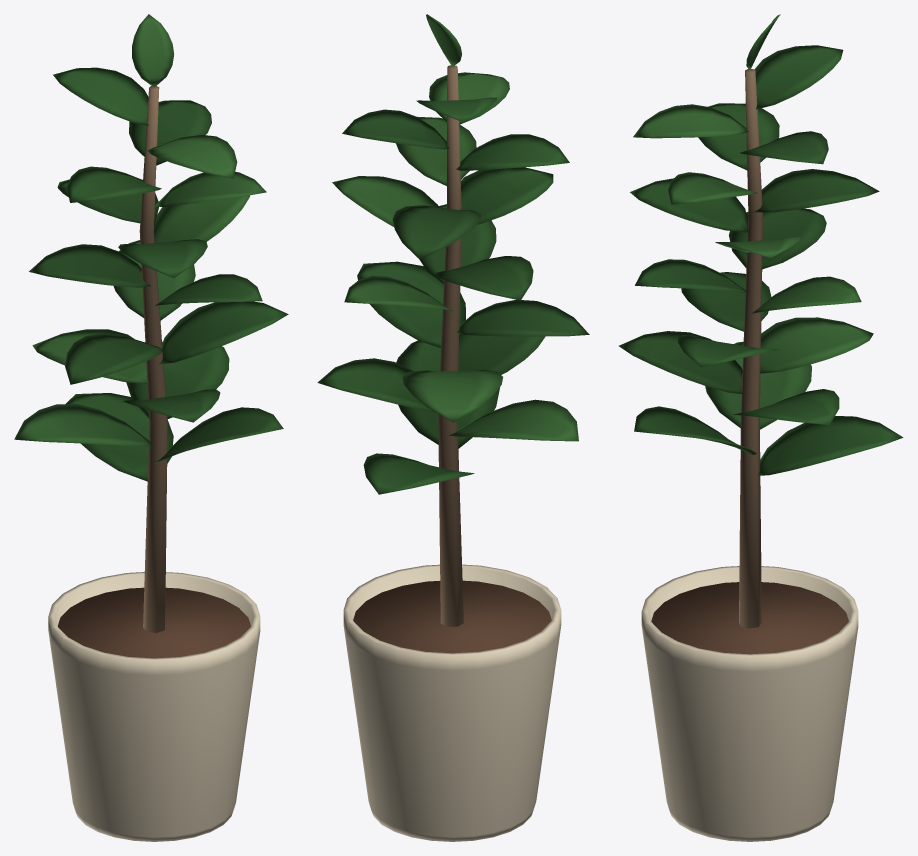
Rendered from fiddleFig.glb.
The picture shows the model from 3 angles, left to right: view 1: azimuth 30°, elevation 25°; view 2: azimuth 150°, elevation 25°; view 3: azimuth 270°, elevation 25°; orthographic projection. The views are drawn at different scales.
Visible parts, largest first — view 1: fiddleFig; view 2: fiddleFig; view 3: fiddleFig.
Part boxes in pixels (bbox=[...]): fiddleFig: bbox=[14, 14, 288, 841]; fiddleFig: bbox=[317, 14, 589, 841]; fiddleFig: bbox=[619, 14, 903, 841].
Size of the model in its own units: 0.5279 by 1.63 by 0.5269.
